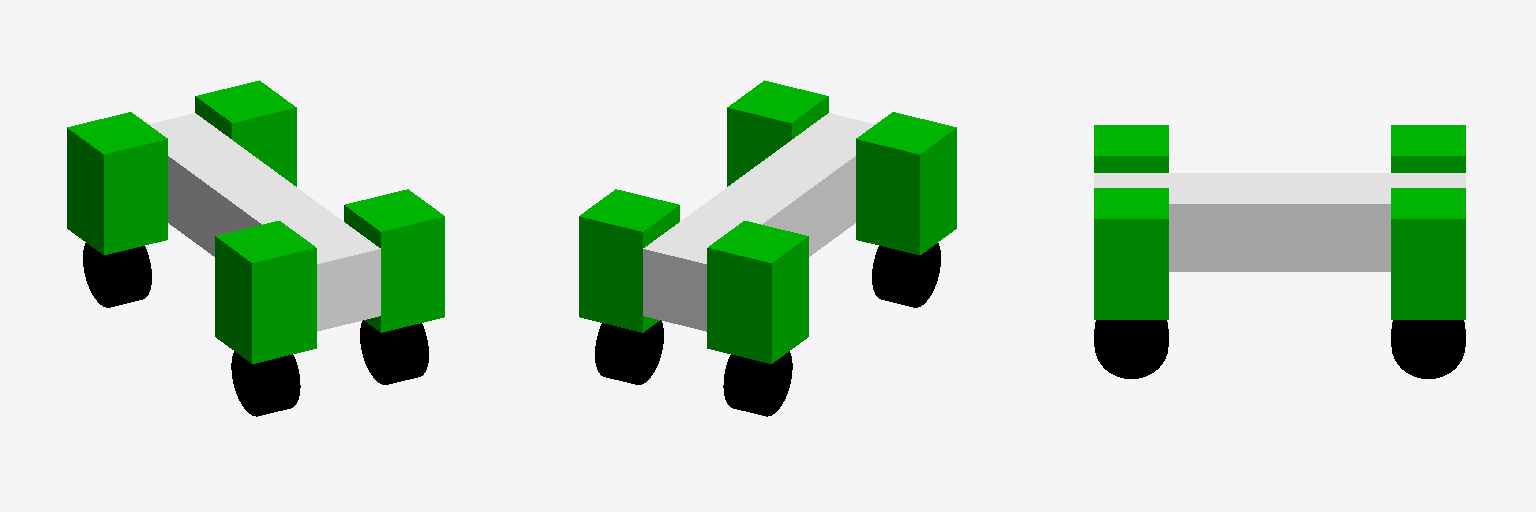
Rendered from cimat_test.obj.
3 views of the same model, side by side, from view 1: azimuth 30°, elevation 25°; view 2: azimuth 150°, elevation 25°; view 3: azimuth 270°, elevation 25° (orthographic).
Visible parts, largest first — view 1: Cube, Cube.001, Cylinder.001, Cylinder.002, Cylinder.003; view 2: Cube, Cube.001, Cylinder.003, Cylinder, Cylinder.001; view 3: Cube, Cube.001, Cylinder, Cylinder.002.
Part boxes in pixels (bbox=[...]): Cube: bbox=[67, 80, 444, 363]; Cube.001: bbox=[148, 113, 380, 331]; Cylinder.001: bbox=[83, 243, 151, 307]; Cylinder.002: bbox=[360, 320, 428, 384]; Cylinder.003: bbox=[231, 351, 300, 416]; Cube: bbox=[579, 80, 956, 363]; Cube.001: bbox=[643, 113, 875, 331]; Cylinder.003: bbox=[872, 243, 940, 307]; Cylinder: bbox=[595, 320, 663, 384]; Cylinder.001: bbox=[723, 351, 792, 416]; Cube: bbox=[1094, 125, 1465, 319]; Cube.001: bbox=[1094, 173, 1465, 271]; Cylinder: bbox=[1391, 320, 1465, 378]; Cylinder.002: bbox=[1094, 320, 1168, 378].
Size of the model in its own units: 6 by 5 by 10.